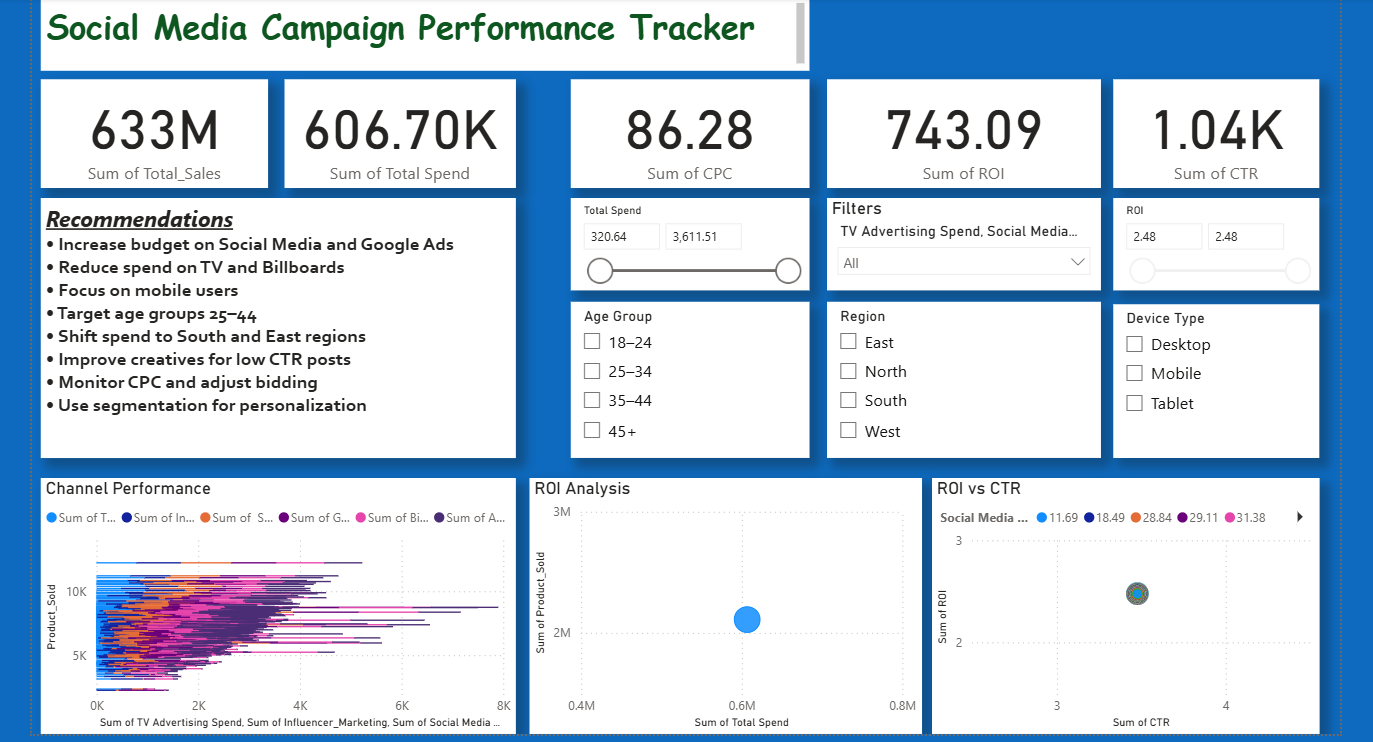

Layout of this report page (visuals, bound fields, positions):
{"tool":"powerbi","page":{"name":"Page 1","canvas":[1280,720],"ordinal":0},"visuals":[{"type":"card","fields":{"Values":["Sum(Advertising_Data_task2.Total_Sales)"]},"box":[8.6,79.5,222.6,106.4],"z":0},{"type":"card","fields":{"Values":["Sum(Advertising_Data_task2.Total Spend)"]},"box":[247,79.5,226.2,106.4],"z":1000},{"type":"card","fields":{"Values":["Sum(Advertising_Data_task2.ROI)"]},"box":[777.7,79.5,267.8,106.4],"z":2000},{"type":"card","fields":{"Values":["Sum(Advertising_Data_task2.CPC)"]},"box":[527,79.5,233.6,106.4],"z":3000},{"type":"card","fields":{"Values":["Sum(Advertising_Data_task2.CTR)"]},"box":[1057.8,79.5,201.8,106.4],"z":4000},{"type":"barChart","title":"Channel Performance","fields":{"Category":["Advertising_Data_task2.Product_Sold","Advertising_Data_task2.Total Spend"],"Y":["Sum(Advertising_Data_task2.TV Advertising Spend)","Sum(Advertising_Data_task2.Influencer_Marketing)","Sum(Advertising_Data_task2. Social Media Advertising Spend)","Sum(Advertising_Data_task2.Google_Ads)","Sum(Advertising_Data_task2.Billboards)","Sum(Advertising_Data_task2.Affiliate_Marketing)"]},"box":[8.6,469.6,464.7,250.7],"z":5000},{"type":"scatterChart","title":"ROI Analysis","fields":{"X":["Sum(Advertising_Data_task2.Total Spend)"],"Y":["Sum(Advertising_Data_task2.Product_Sold)"],"Size":["Sum(Advertising_Data_task2.ROI)"]},"box":[486.7,469.6,384,250.7],"z":6000},{"type":"slicer","title":"Filters","fields":{"Values":["Advertising_Data_task2.TV Advertising Spend","Advertising_Data_task2. Social Media Advertising Spend","Advertising_Data_task2.Google_Ads"]},"box":[777.7,195.7,267.8,90.5],"z":7000},{"type":"slicer","fields":{"Values":["Advertising_Data_task2.ROI"]},"box":[1057.8,195.7,201.8,90.5],"z":8000},{"type":"slicer","fields":{"Values":["Advertising_Data_task2.Total Spend"]},"box":[527,195.7,233.6,90.5],"z":9000},{"type":"scatterChart","title":"ROI vs CTR","fields":{"Y":["Sum(Advertising_Data_task2.ROI)"],"Size":["Sum(Advertising_Data_task2.Total Spend)"],"Series":["Advertising_Data_task2. Social Media Advertising Spend"],"X":["Sum(Advertising_Data_task2.CTR)"]},"box":[880.4,469.6,379.1,250.7],"z":10000},{"type":"slicer","fields":{"Values":["Advertising_Data_task2.Age Group"]},"box":[527,297.1,233.6,152.9],"z":11000},{"type":"slicer","fields":{"Values":["Advertising_Data_task2.Region"]},"box":[777.7,297.1,267.8,152.9],"z":12000},{"type":"slicer","fields":{"Values":["Advertising_Data_task2.Device Type"]},"box":[1057.8,299.6,201.8,150.4],"z":13000},{"type":"textbox","box":[8.6,195.7,464.7,254.3],"z":14000},{"type":"textbox","box":[8.6,0,752,70.9],"z":14001}]}

Visuals, with their boxes in screenshot pixels (x1, y1, x2, y2):
card - Sum(Advertising_Data_task2.Total_Sales): BBox(41, 77, 268, 186)
card - Sum(Advertising_Data_task2.Total Spend): BBox(284, 77, 514, 186)
card - Sum(Advertising_Data_task2.ROI): BBox(824, 77, 1097, 186)
card - Sum(Advertising_Data_task2.CPC): BBox(569, 77, 807, 186)
card - Sum(Advertising_Data_task2.CTR): BBox(1110, 77, 1315, 186)
"Channel Performance" barChart: BBox(41, 475, 514, 730)
"ROI Analysis" scatterChart: BBox(528, 475, 919, 730)
"Filters" slicer: BBox(824, 196, 1097, 288)
slicer - Advertising_Data_task2.ROI: BBox(1110, 196, 1315, 288)
slicer - Advertising_Data_task2.Total Spend: BBox(569, 196, 807, 288)
"ROI vs CTR" scatterChart: BBox(929, 475, 1315, 730)
slicer - Advertising_Data_task2.Age Group: BBox(569, 299, 807, 455)
slicer - Advertising_Data_task2.Region: BBox(824, 299, 1097, 455)
slicer - Advertising_Data_task2.Device Type: BBox(1110, 302, 1315, 455)
textbox: BBox(41, 196, 514, 455)
textbox: BBox(41, 0, 807, 69)
